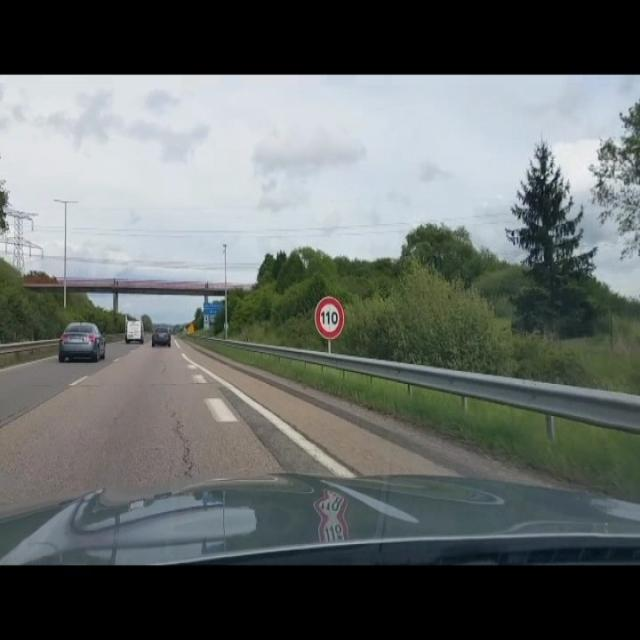speed_110: (314, 296, 344, 341)
